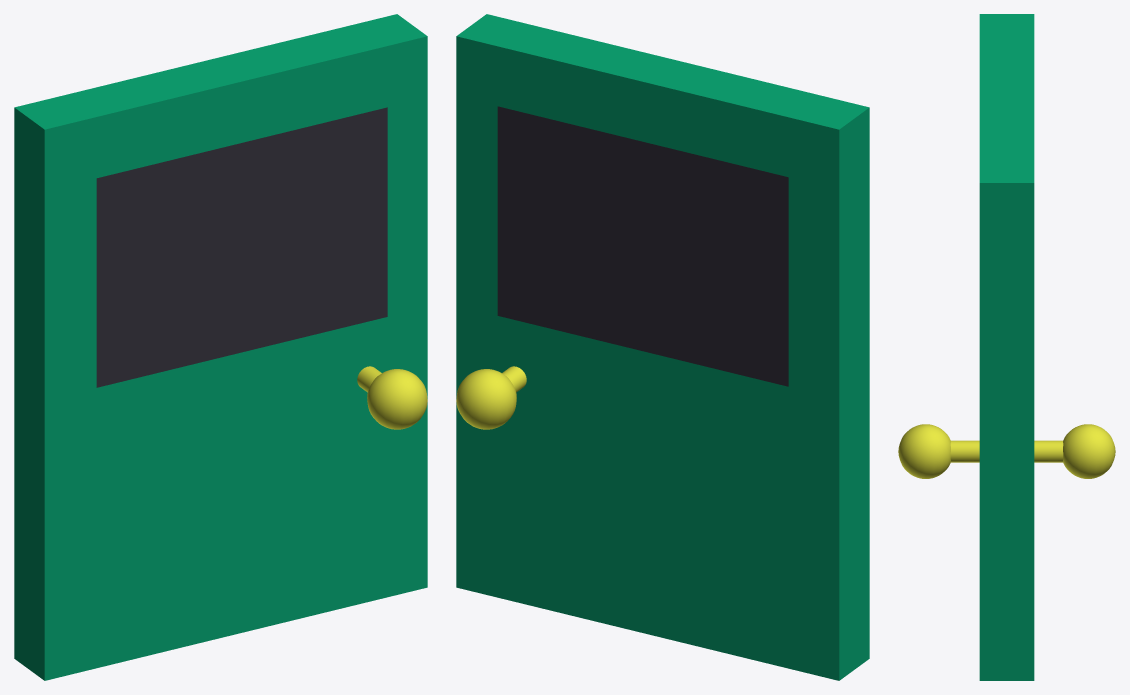
File: puerta1.obj
3 views of the same model, side by side, from view 1: azimuth 30°, elevation 25°; view 2: azimuth 150°, elevation 25°; view 3: azimuth 270°, elevation 25° (orthographic). The views are drawn at different scales.
Parts seen in each view (by area): view 1: polySurface8; view 2: polySurface8; view 3: polySurface8.
Boxes of the visible parts, x1,y1,x2,y2 form: polySurface8: (14,14,427,680); polySurface8: (456,14,869,680); polySurface8: (898,14,1115,680).
Size of the model in its own units: 3.63 by 5 by 1.98.
4 materials, 4 textured.
